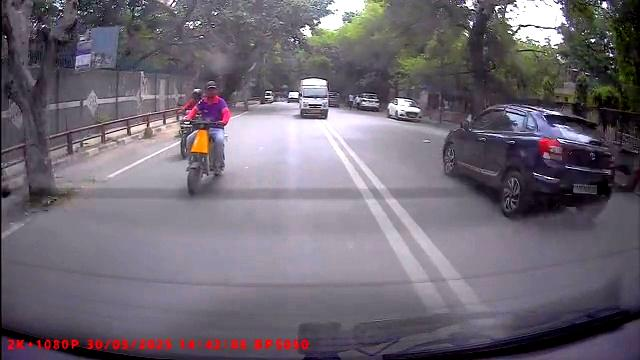motorcycle_without_helmet: (180, 80, 230, 195)
